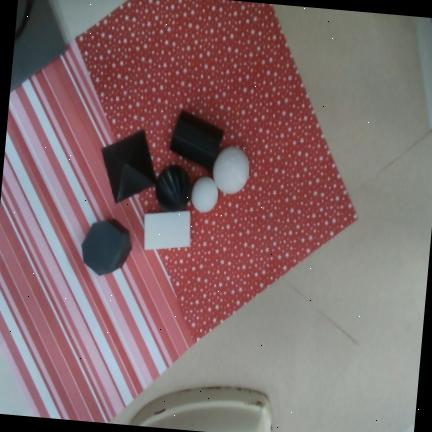Esfera: (213, 147, 249, 194), (156, 164, 192, 211), (191, 177, 218, 212)
Paralelepipedo: (144, 211, 191, 251)
Piramide: (101, 130, 157, 204)
Prisma_hexagonal: (169, 110, 225, 172), (81, 219, 132, 276)
